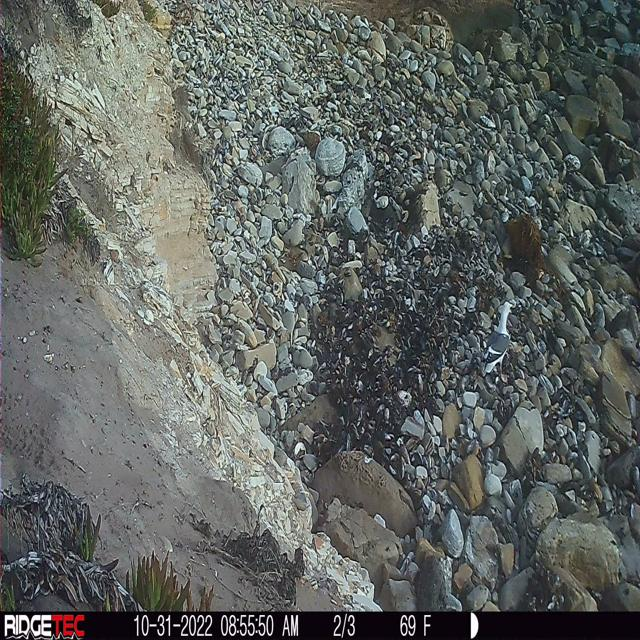bird: (474, 288, 521, 388)
